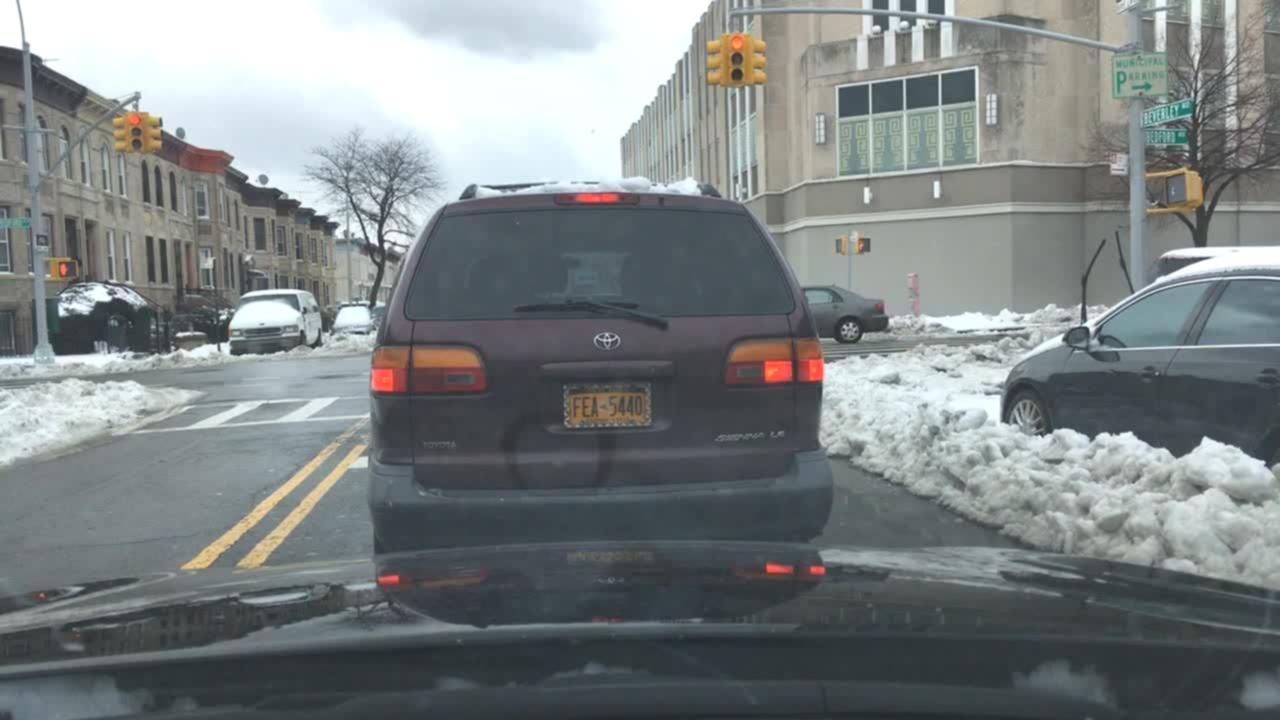Toyota: (588, 319, 632, 358)
